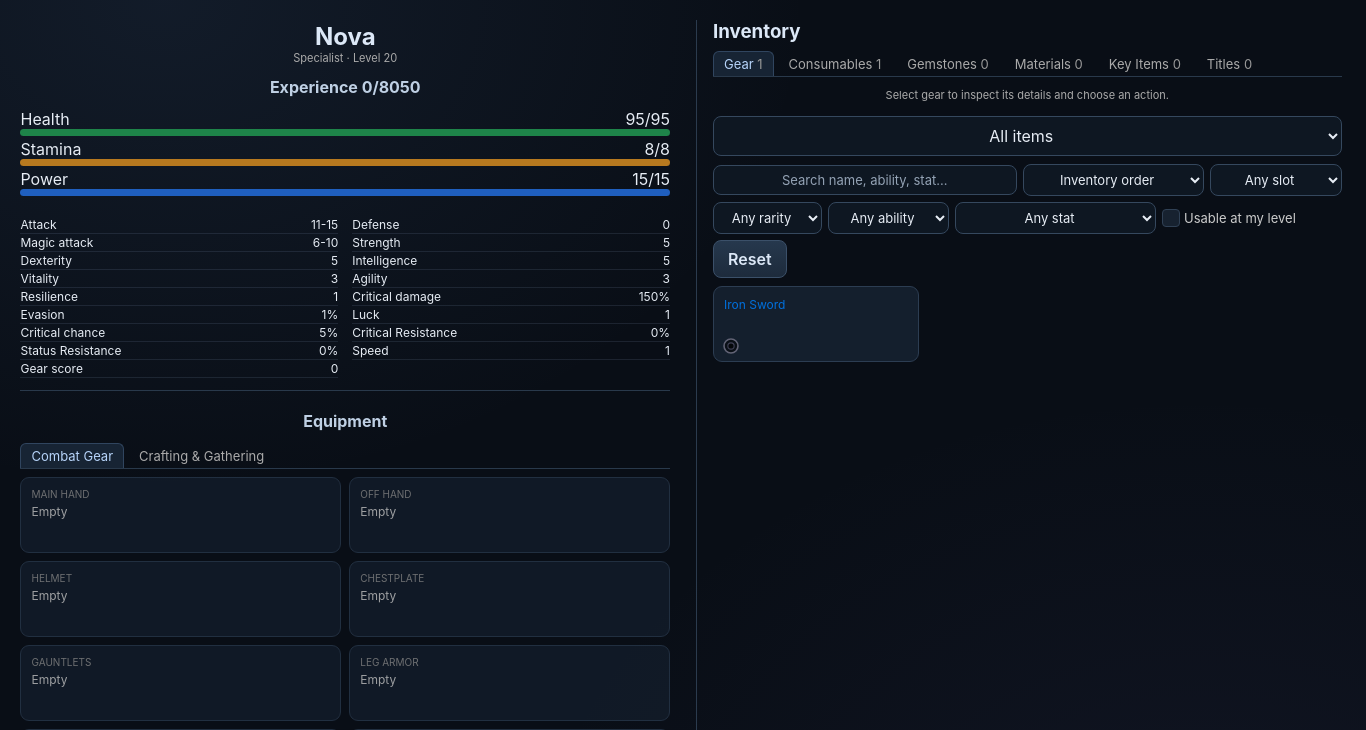
Scenario: alloy details lead to the target picker without spending it until applied
Click the tab "Consumables 1" at (835, 64), box [778,52,892,76]
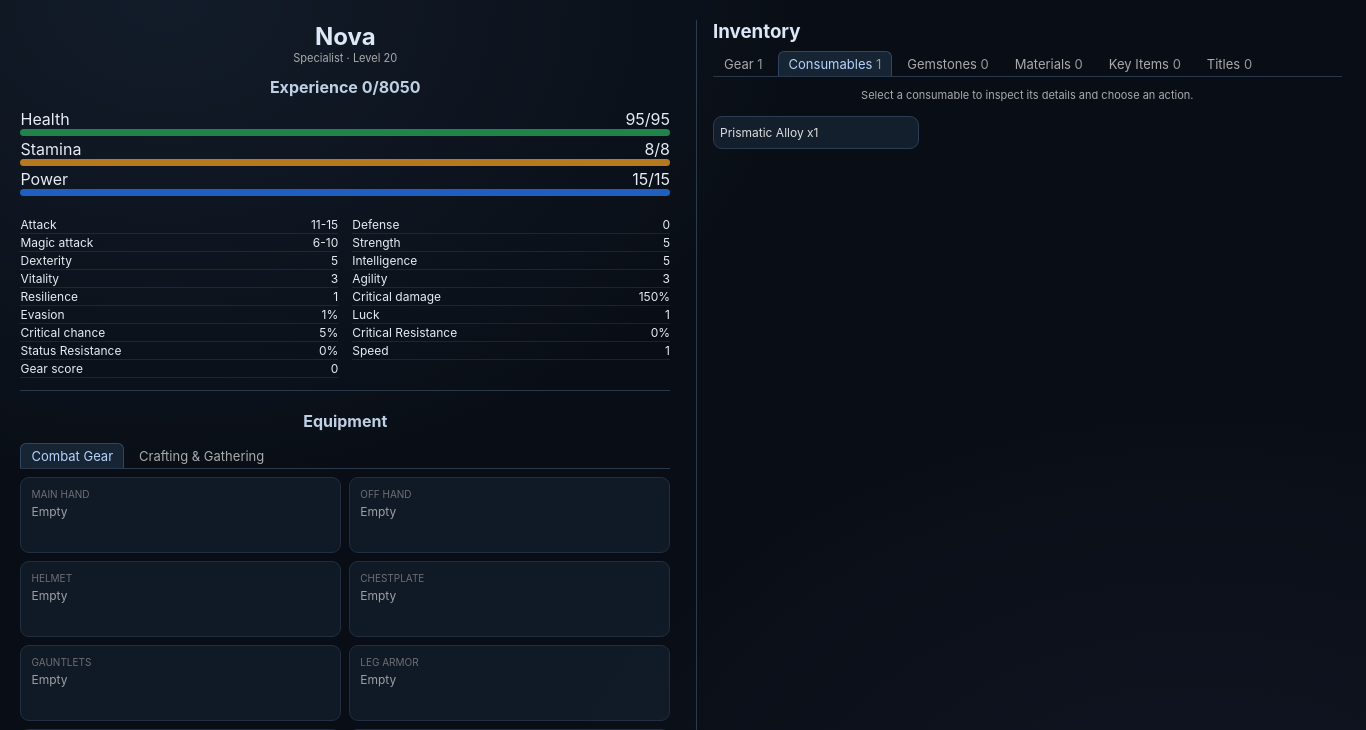
Click the button "Prismatic Alloy x1" at (816, 133), box [713,116,918,150]
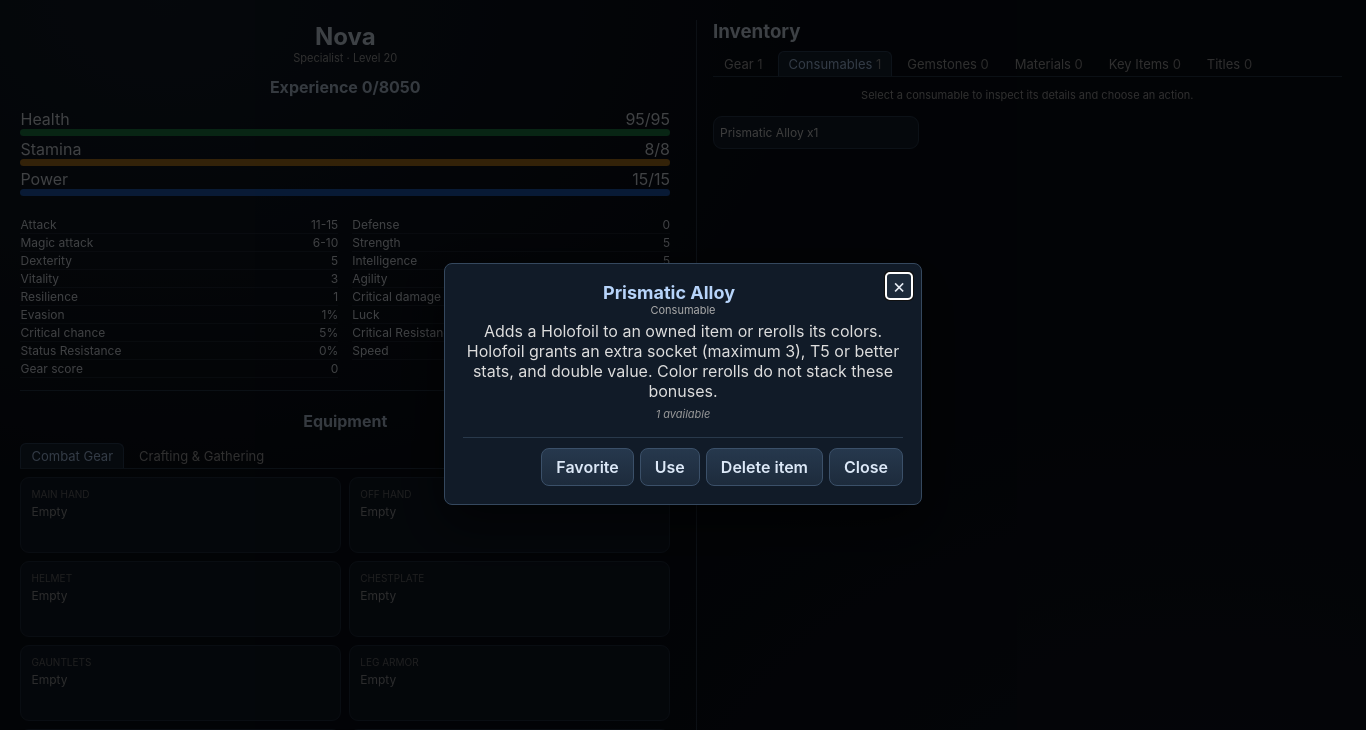
Now the dialog named "Prismatic Alloy details" is shown, box [444,263,922,505]
Click the button "Use" at (670, 467), box [640,448,700,486]
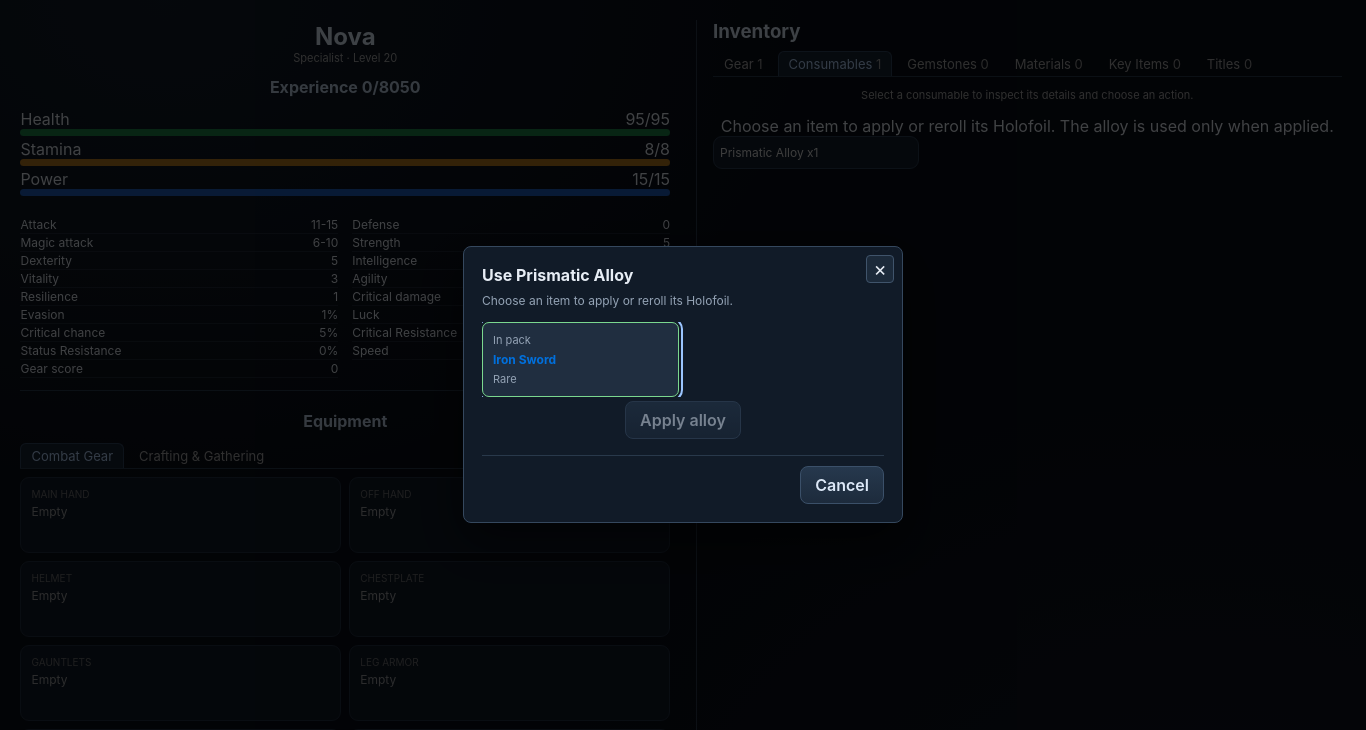
Click the button "In pack Iron Sword Rare" at (580, 359), box [482,322,679,396]
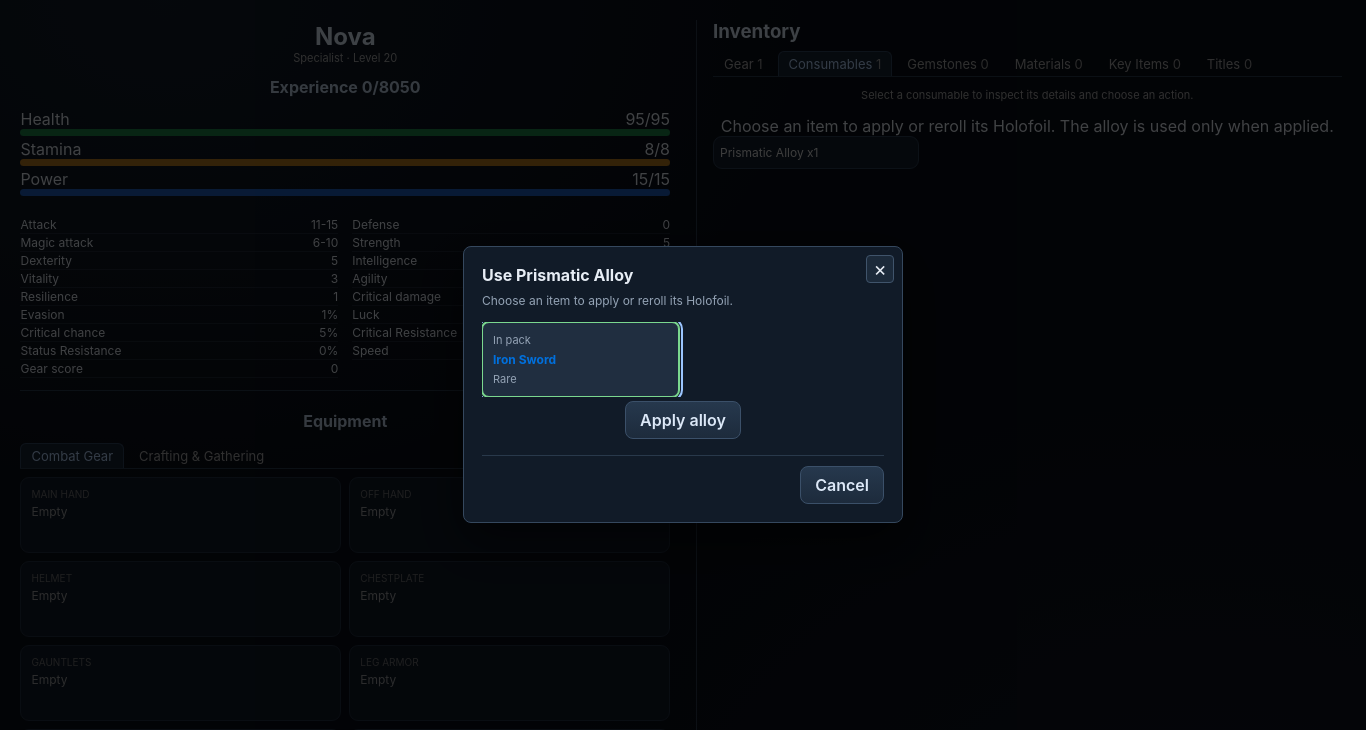
Click the button "Apply alloy" at (683, 420), box [625,400,741,438]
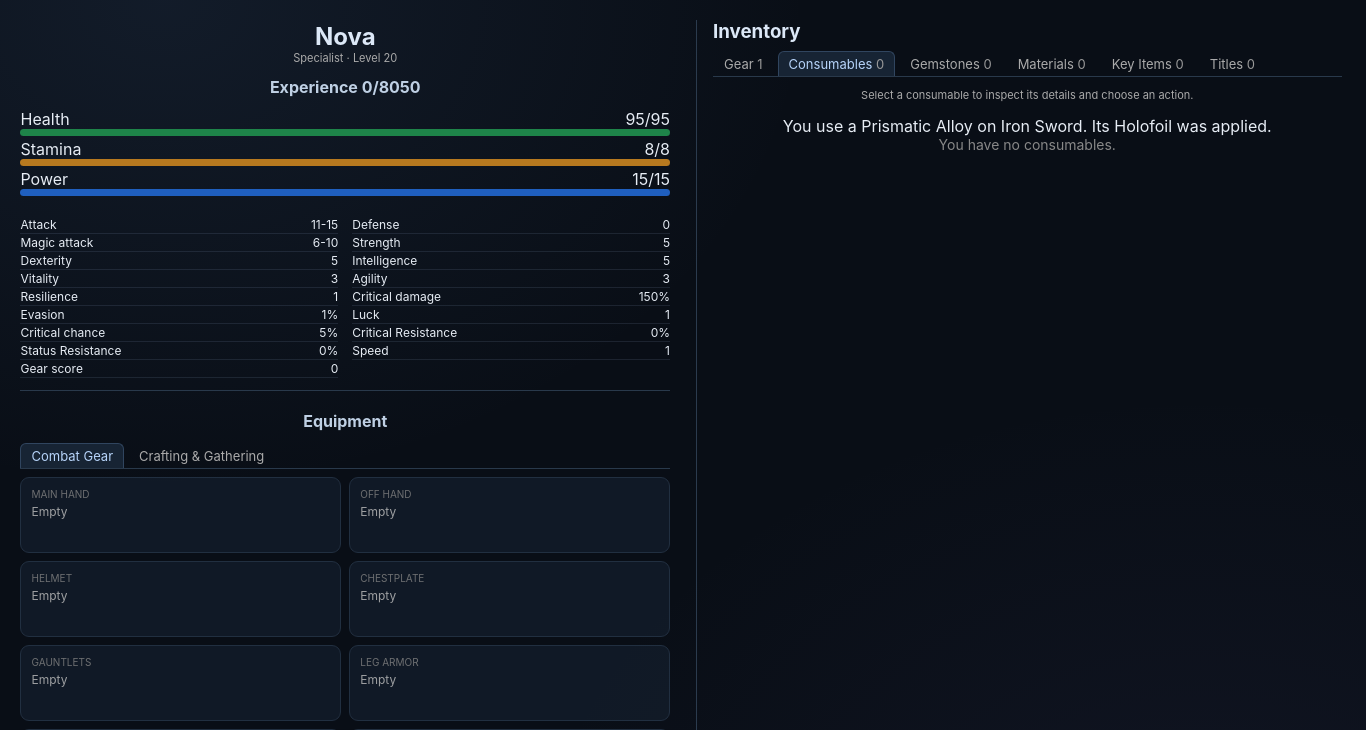
Now the dialog is gone
